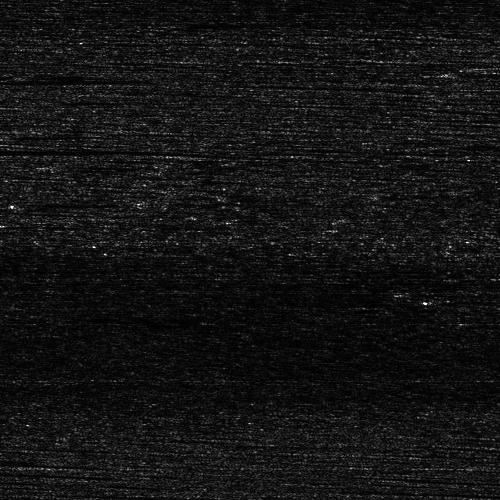object: (467, 61, 500, 68)
shadow: (0, 75, 125, 86), (0, 148, 148, 153)
